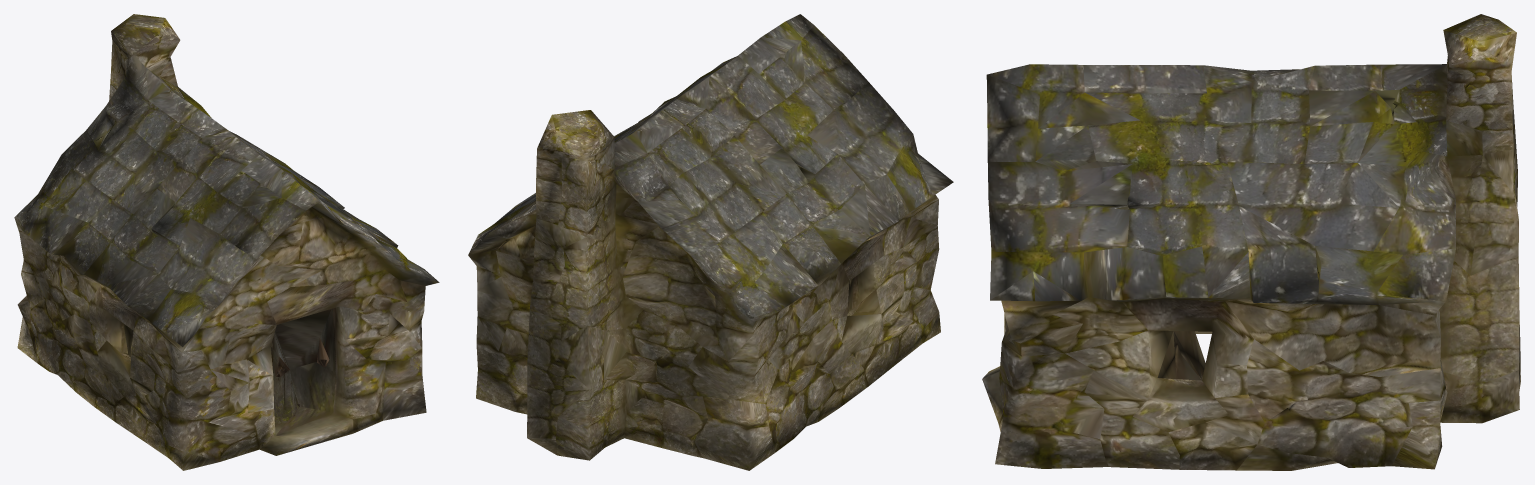
File: land_farmhouse_far.obj
The picture shows the model from 3 angles, left to right: view 1: azimuth 30°, elevation 25°; view 2: azimuth 150°, elevation 25°; view 3: azimuth 270°, elevation 25°; orthographic projection. The views are drawn at different scales.
Parts seen in each view (by area): view 1: land_farmhouse_far; view 2: land_farmhouse_far; view 3: land_farmhouse_far.
Boxes of the visible parts, box(x1,y1,x2,y2) form: land_farmhouse_far: box(14, 14, 439, 470); land_farmhouse_far: box(468, 14, 953, 470); land_farmhouse_far: box(982, 14, 1520, 470).
Bounding box in the file's own units: 5.33 × 5.43 × 6.99.
1 material, 1 textured.
